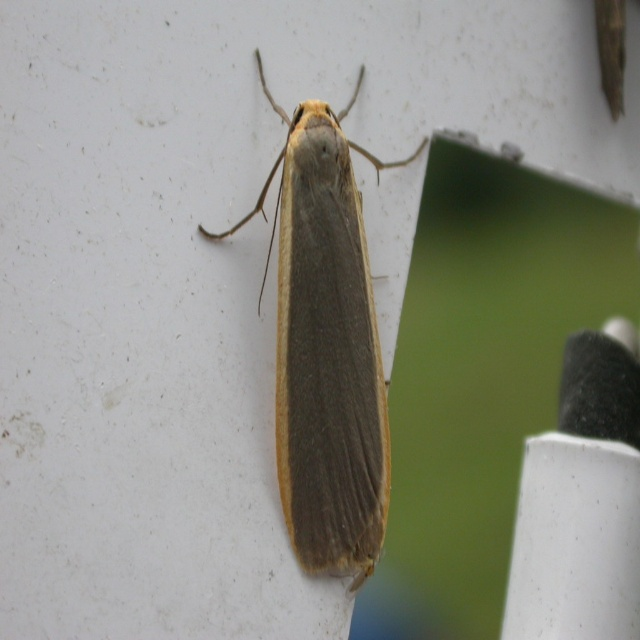Moths and butterflies: (194, 42, 436, 597)
